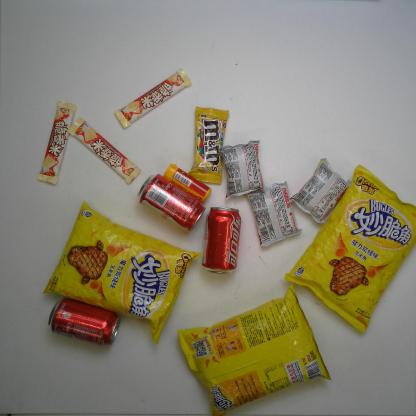Candy: (162, 164, 214, 204)
Chocolate: (66, 116, 142, 186), (115, 64, 192, 127), (35, 99, 78, 185), (190, 100, 228, 184)
Dessert: (288, 156, 352, 225), (245, 180, 302, 249), (217, 138, 268, 200)
Drink: (136, 172, 205, 232), (47, 294, 123, 346), (203, 205, 242, 275)
Puffed Food: (284, 162, 416, 334), (40, 200, 198, 340), (177, 282, 333, 416)
